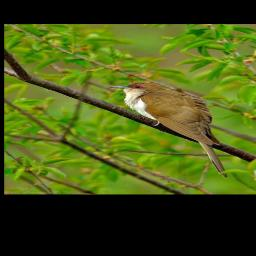Cuckoo: (109, 80, 229, 179)
